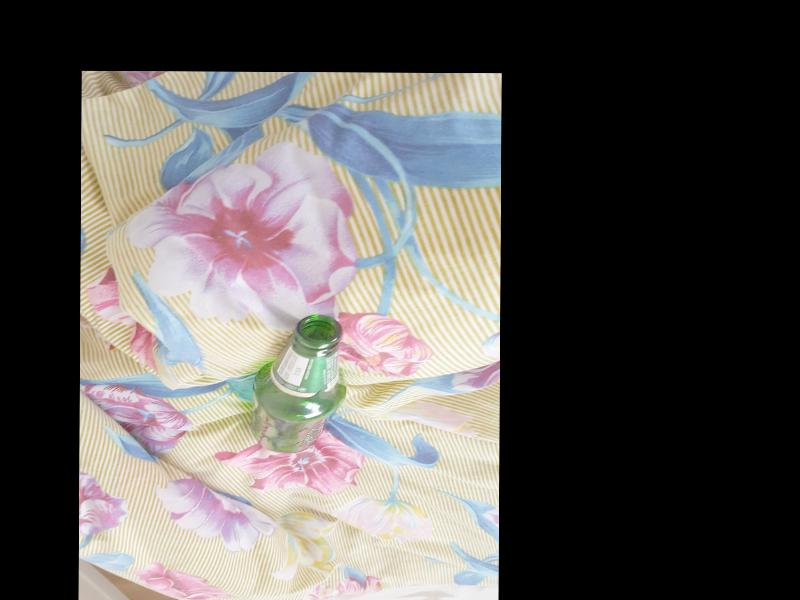Beer: (255, 314, 346, 453)
